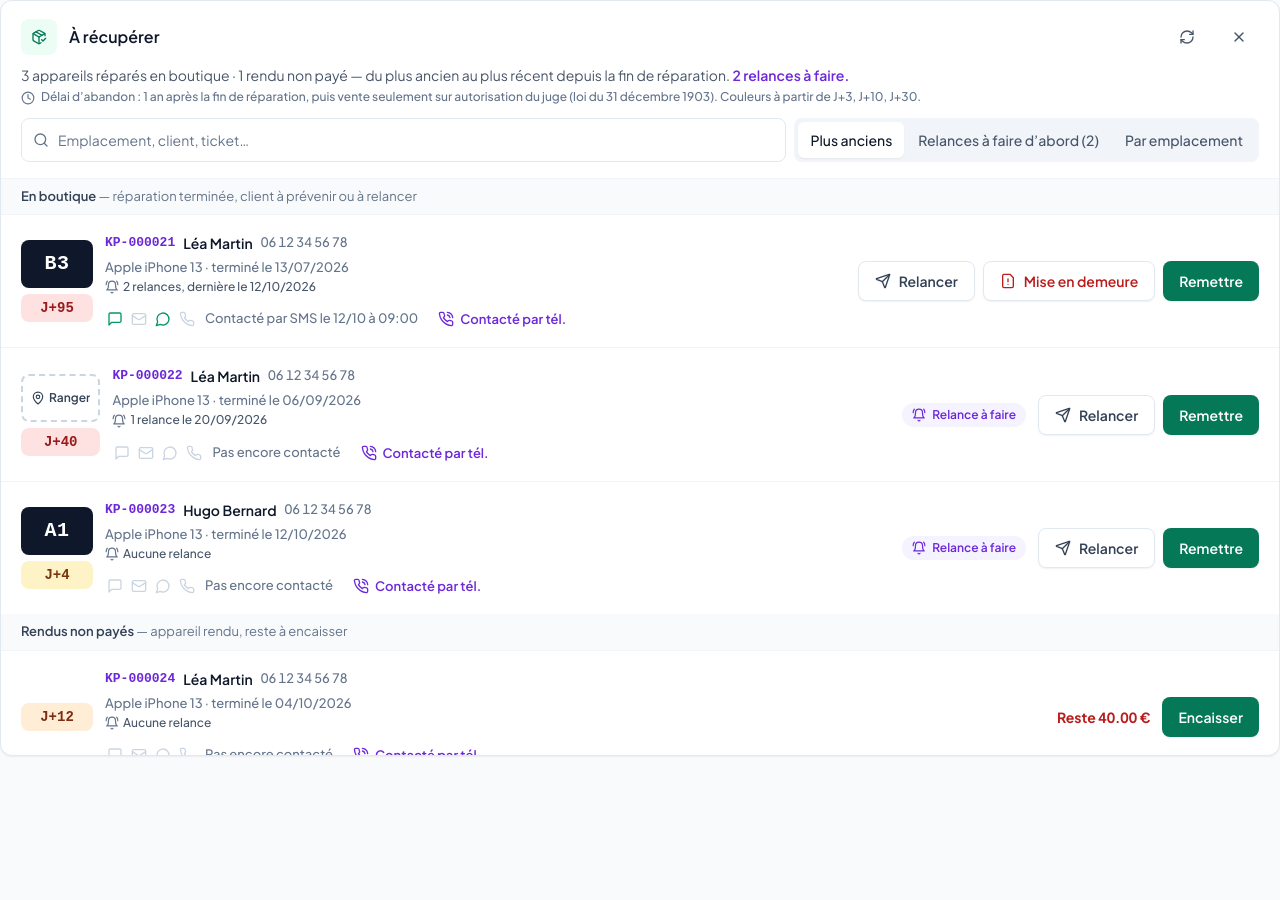
EtagereARecuperer : relancer en deux clics › WhatsApp : message du palier, wa.me ouvert, relance tracée, ligne mise à jour sans recharger
Expected: the link "KP-000021" is shown, [105, 235, 175, 250]
Click the button with aria-label "Relancer KP-000022": (1097, 415) [1038, 395, 1155, 435]
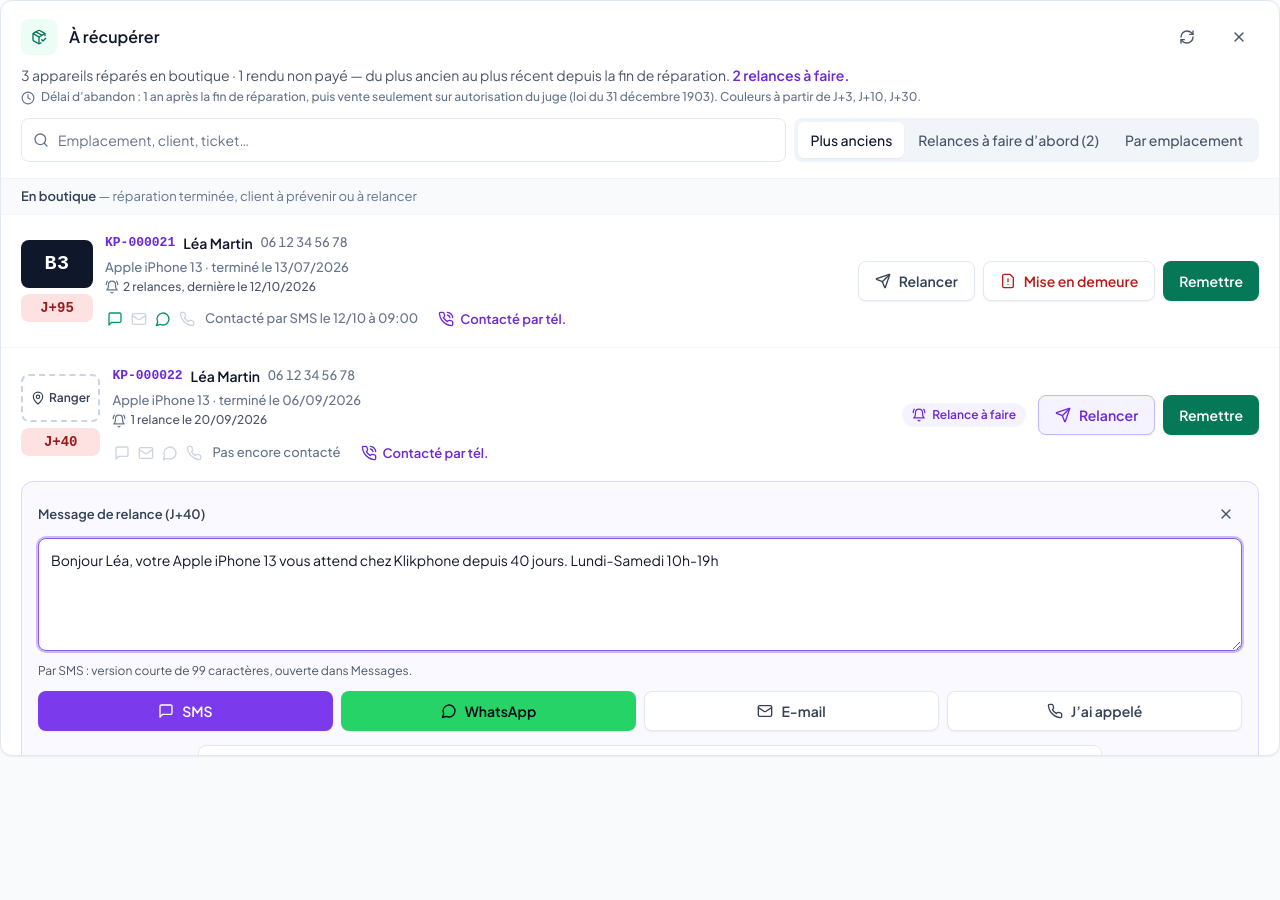
Expected: the button with aria-label "Relancer KP-000022" is expanded, [1038, 395, 1155, 435]
Click the button "WhatsApp": (488, 711) [341, 691, 636, 731]
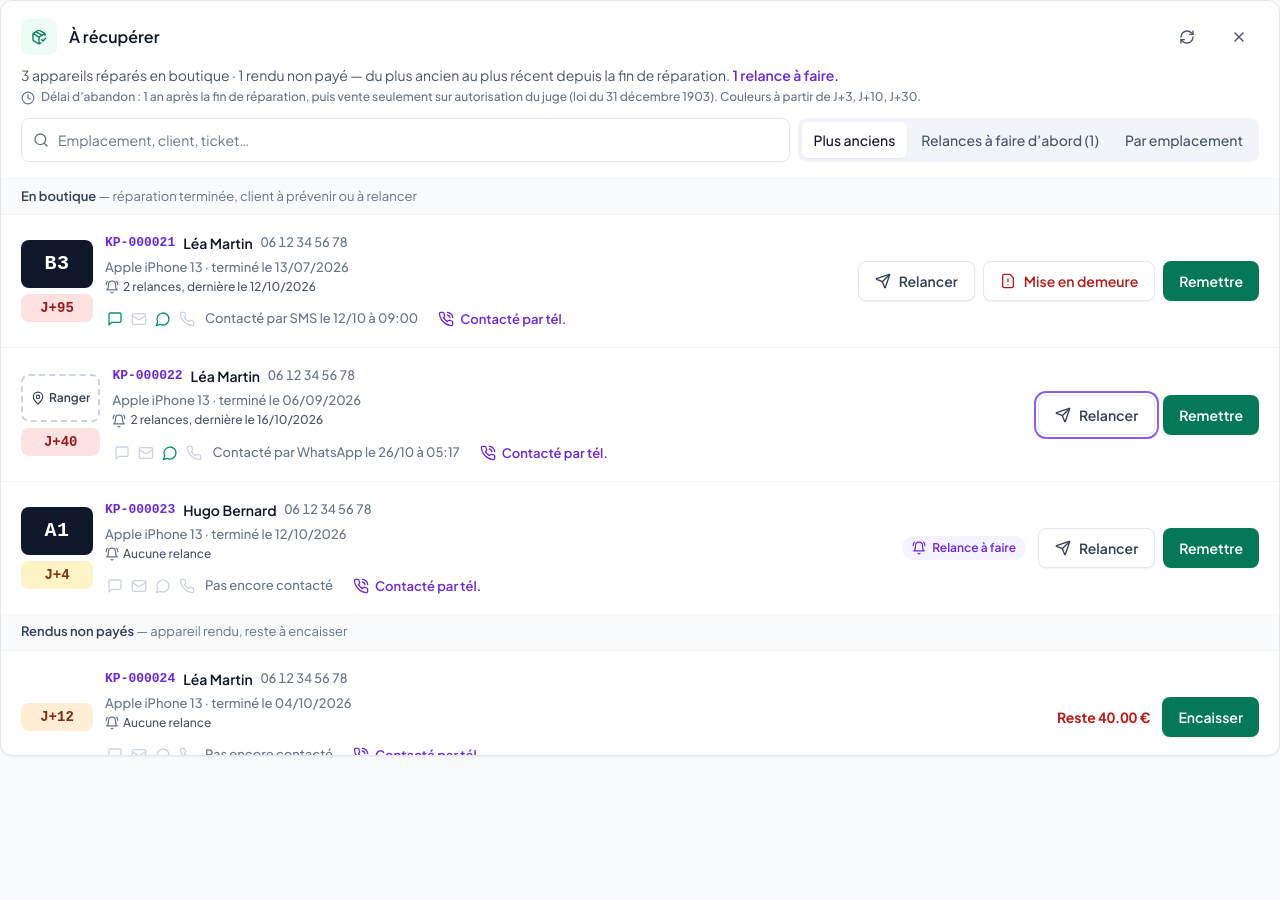
Expected: the text "2 relances, dernière le 16/10/2026" is shown, [130, 412, 323, 429]
Expected: the text "1 relance à faire." is shown, [732, 66, 839, 84]
